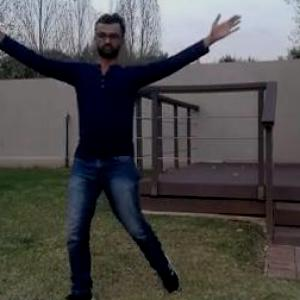takeoff: (0, 6, 260, 299)
